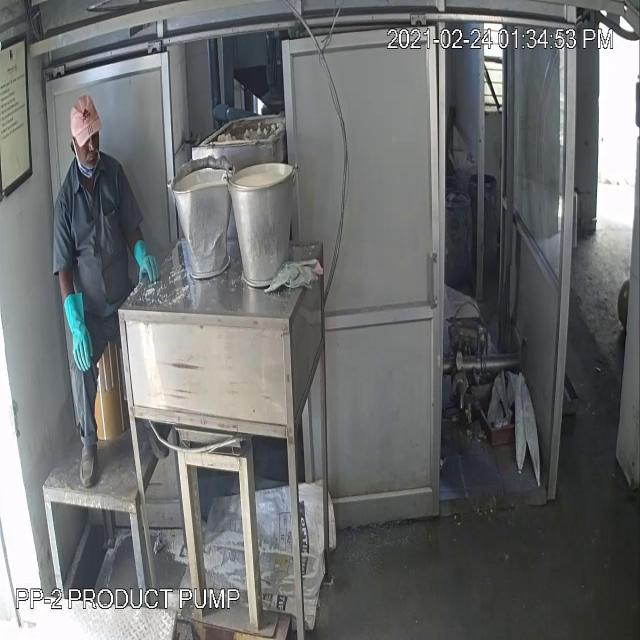no-helmet: (59, 93, 111, 145)
